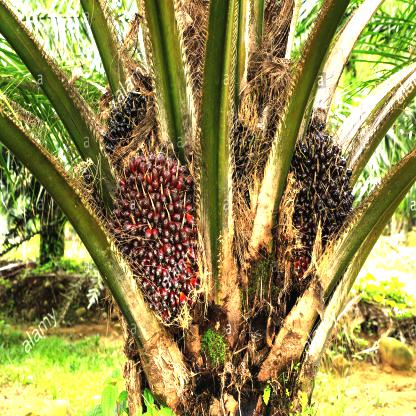1: (118, 152, 206, 329)
palm-oil: (287, 118, 354, 287), (92, 82, 162, 151), (226, 110, 265, 193)
